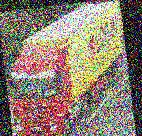truck: (1, 1, 134, 136)
